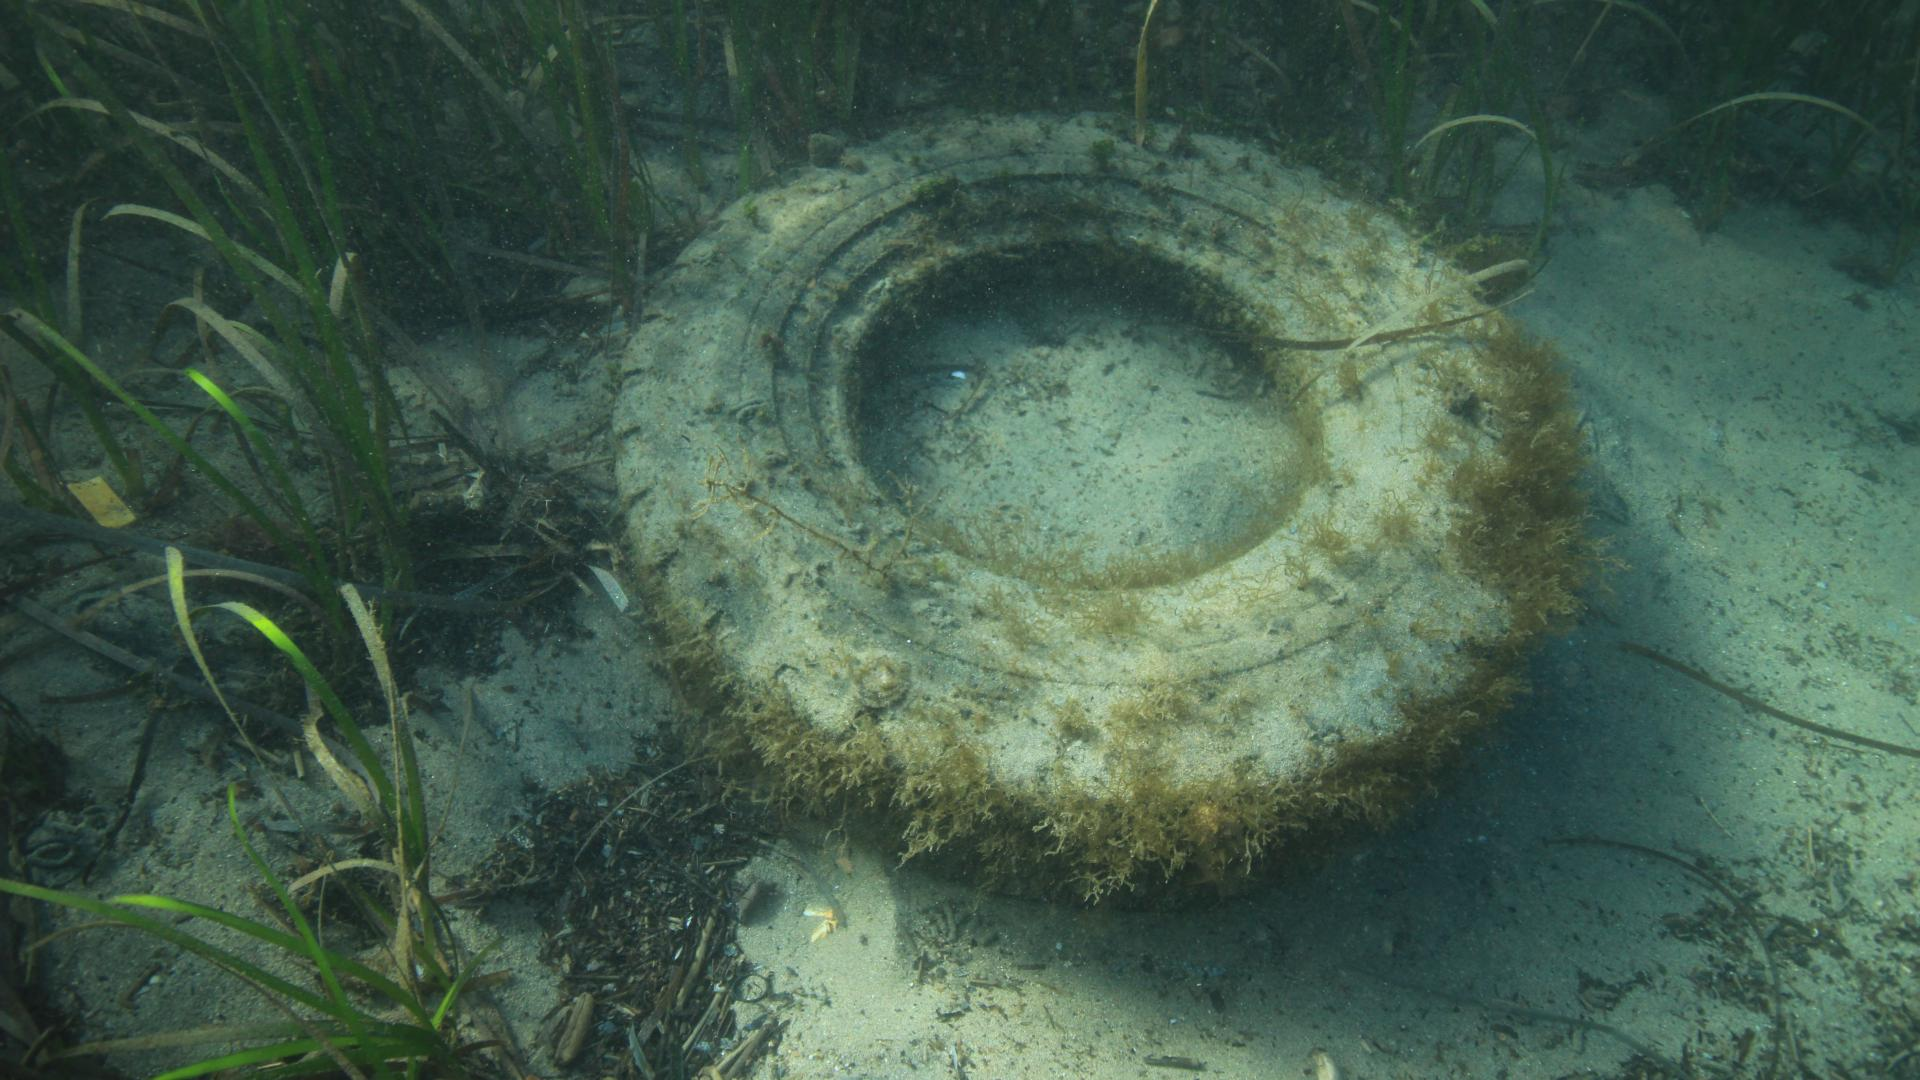tire: (600, 107, 1516, 910)
